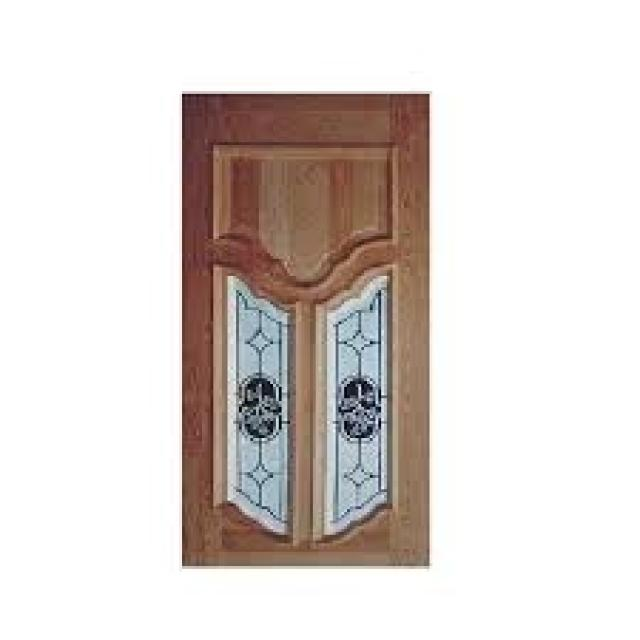door: (181, 94, 431, 569)
